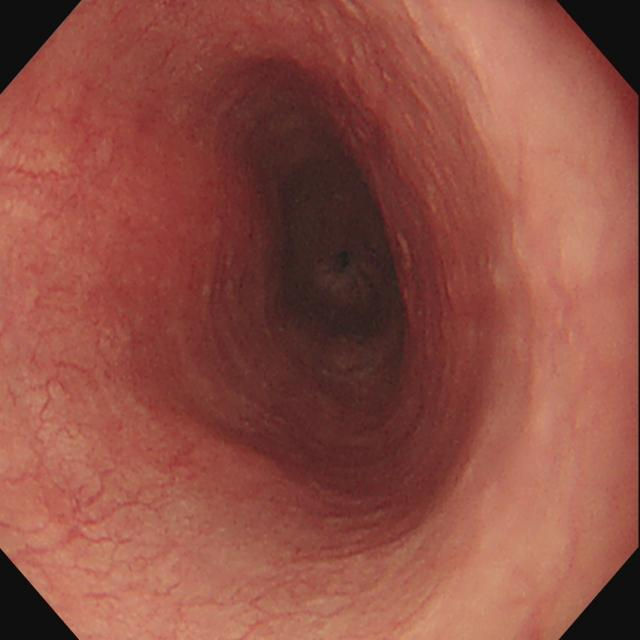E: (275, 172, 404, 336)
